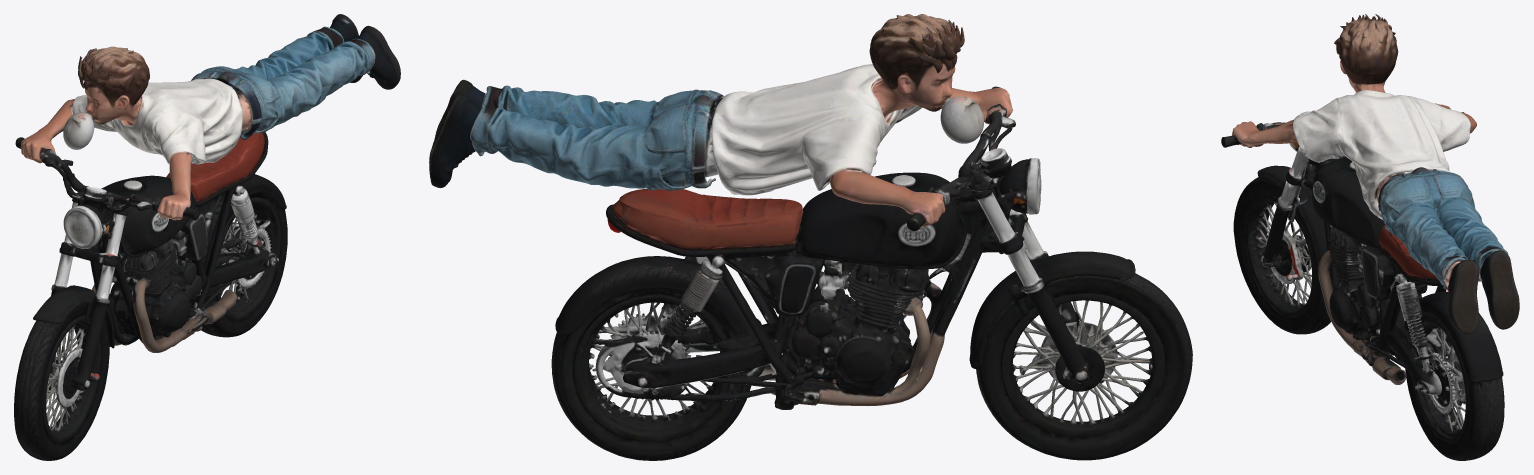
File: superman.glb
3 views of the same model, side by side, from view 1: azimuth 30°, elevation 25°; view 2: azimuth 150°, elevation 25°; view 3: azimuth 270°, elevation 25° (orthographic). The views are drawn at different scales.
Visible parts, largest first — view 1: mesh_node; view 2: mesh_node; view 3: mesh_node.
Part boxes in pixels (x1,y1,x2,y2): mesh_node: [14, 14, 400, 460]; mesh_node: [429, 14, 1192, 460]; mesh_node: [1221, 14, 1519, 460].
Size of the model in its own units: 2 by 1.39 by 1.07.
Materials: 1 (1 with a texture image).
